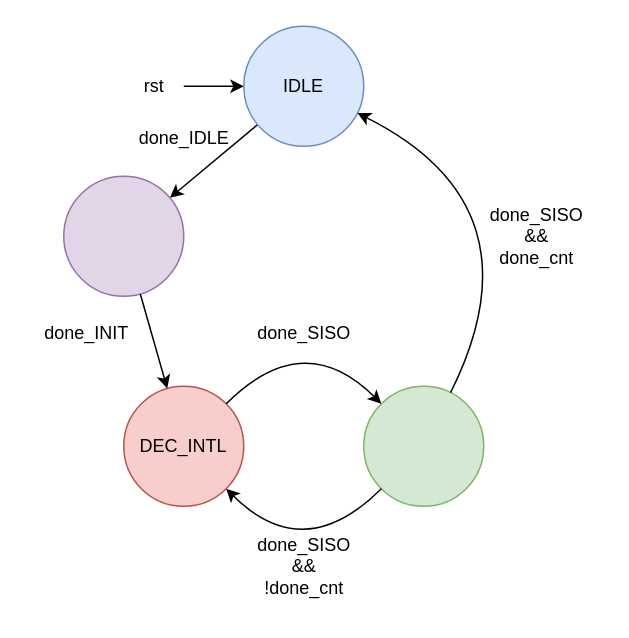
This 629x638 diagram has some shape labels left out. The shapes that lost their labels are listed below. From the top down, each one's centre as x and y in pixels, then its label:
At point (123, 235): "INIT".
At point (423, 445): "DEC".
